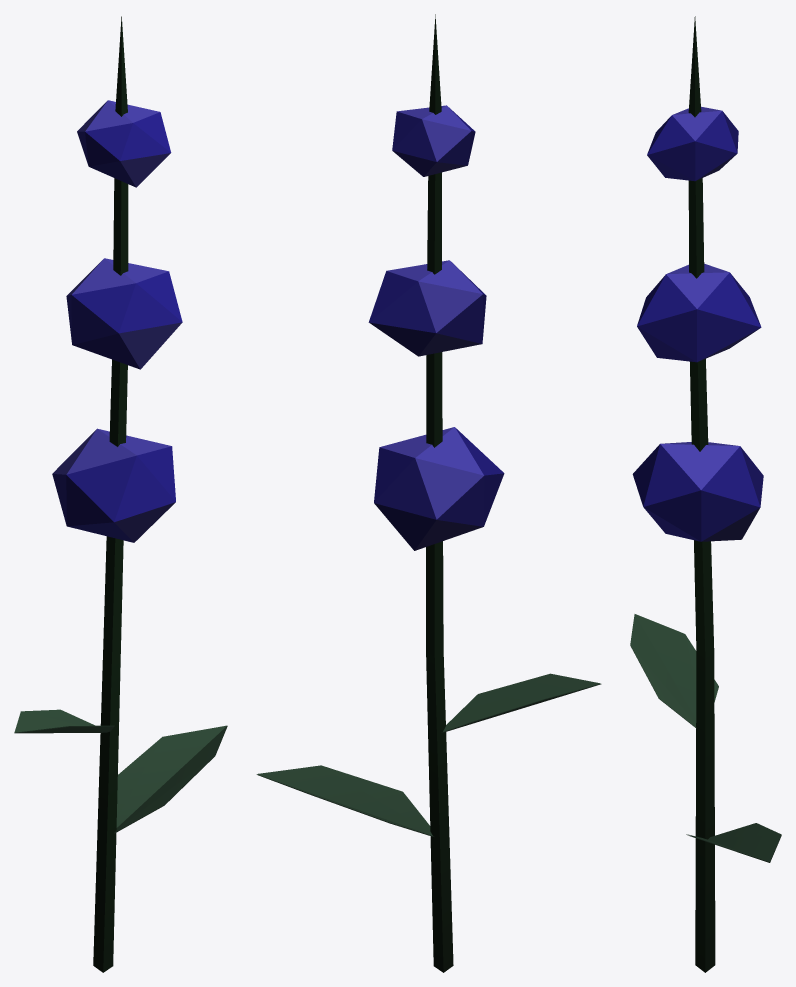
Rendered from bloom_salvia.fbx.
3 renders of one model, left to right at view 1: azimuth 30°, elevation 25°; view 2: azimuth 150°, elevation 25°; view 3: azimuth 270°, elevation 25°, orthographic.
Visible parts, largest first — view 1: Bloom_Salvia; view 2: Bloom_Salvia; view 3: Bloom_Salvia.
Boxes of the visible parts, box(x1,y1,x2,y2) form: Bloom_Salvia: box(14, 16, 227, 972); Bloom_Salvia: box(256, 14, 601, 972); Bloom_Salvia: box(630, 16, 781, 972).
Size of the model in its own units: 0.1265 by 0.4111 by 0.0588.
